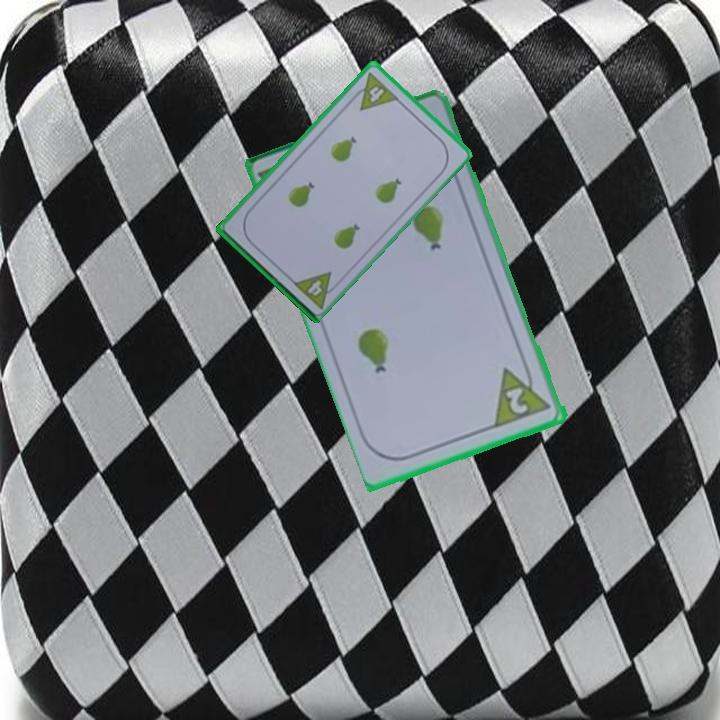2p: (502, 384, 532, 418)
4p: (346, 69, 401, 113), (289, 268, 343, 311)
